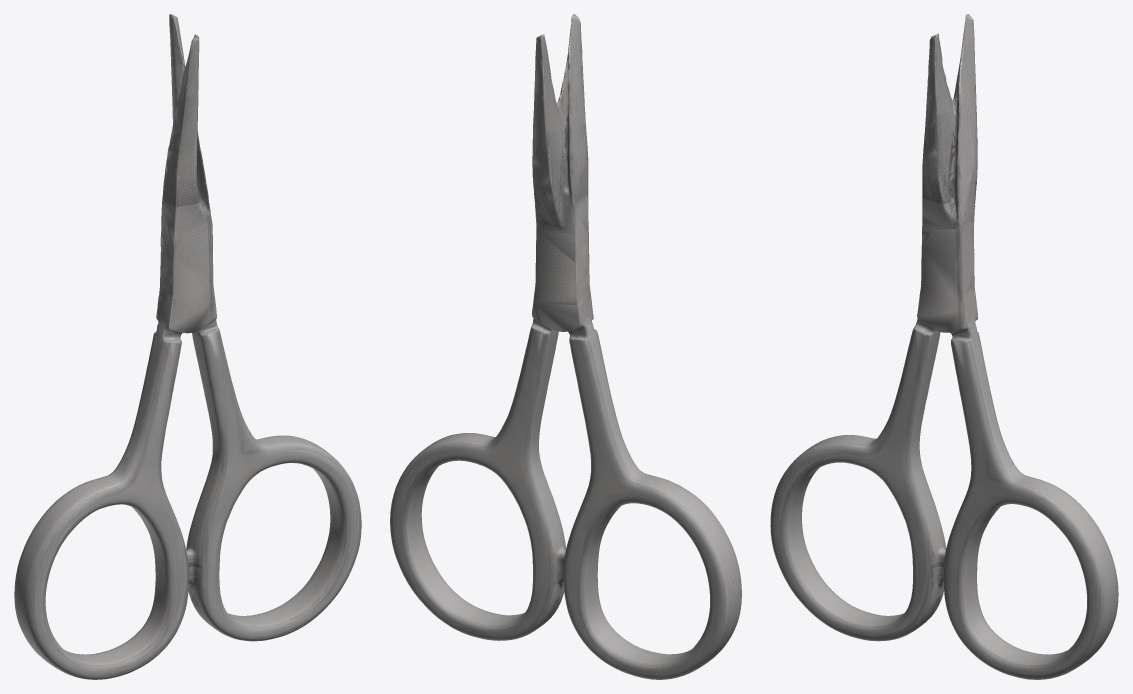
File: vet_equip_scissors_metzenbaum.glb
The picture shows the model from 3 angles, left to right: view 1: azimuth 30°, elevation 25°; view 2: azimuth 150°, elevation 25°; view 3: azimuth 330°, elevation 25°; orthographic projection.
Parts seen in each view (by area): view 1: model; view 2: model; view 3: model.
Part boxes in pixels (<box>): model: <box>14,14,361,679</box>; model: <box>390,14,741,679</box>; model: <box>770,14,1118,679</box>.
Size of the model in its own units: 1.07 by 1.9 by 0.1773.
Materials: 1 (1 with a texture image).
